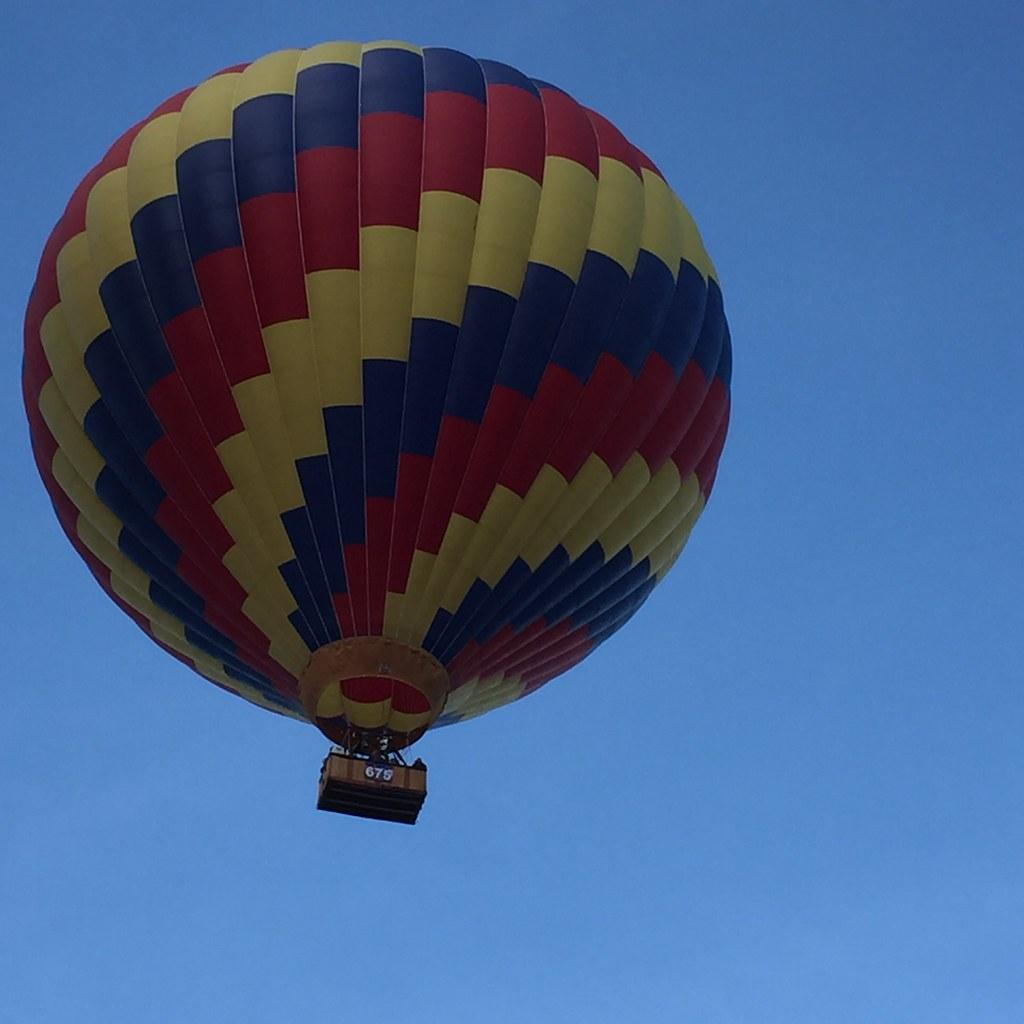balloon: (21, 38, 735, 826)
